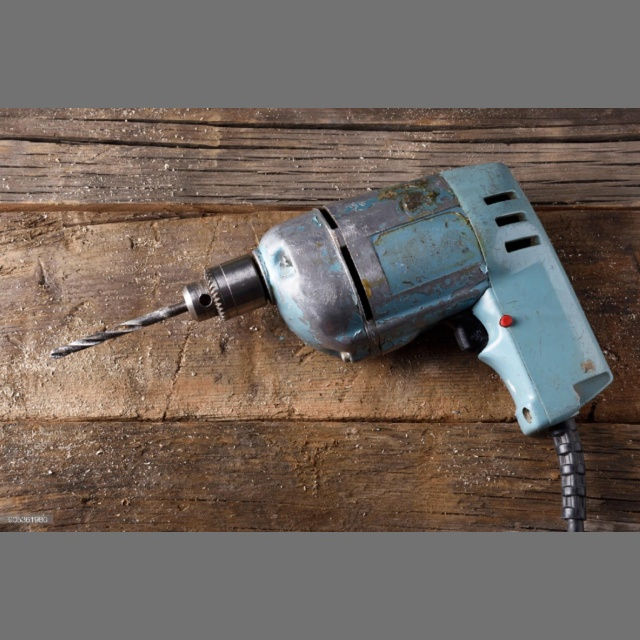drill: (155, 160, 615, 436)
